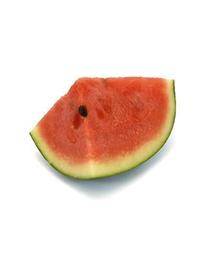watermelon: (29, 72, 177, 181)
